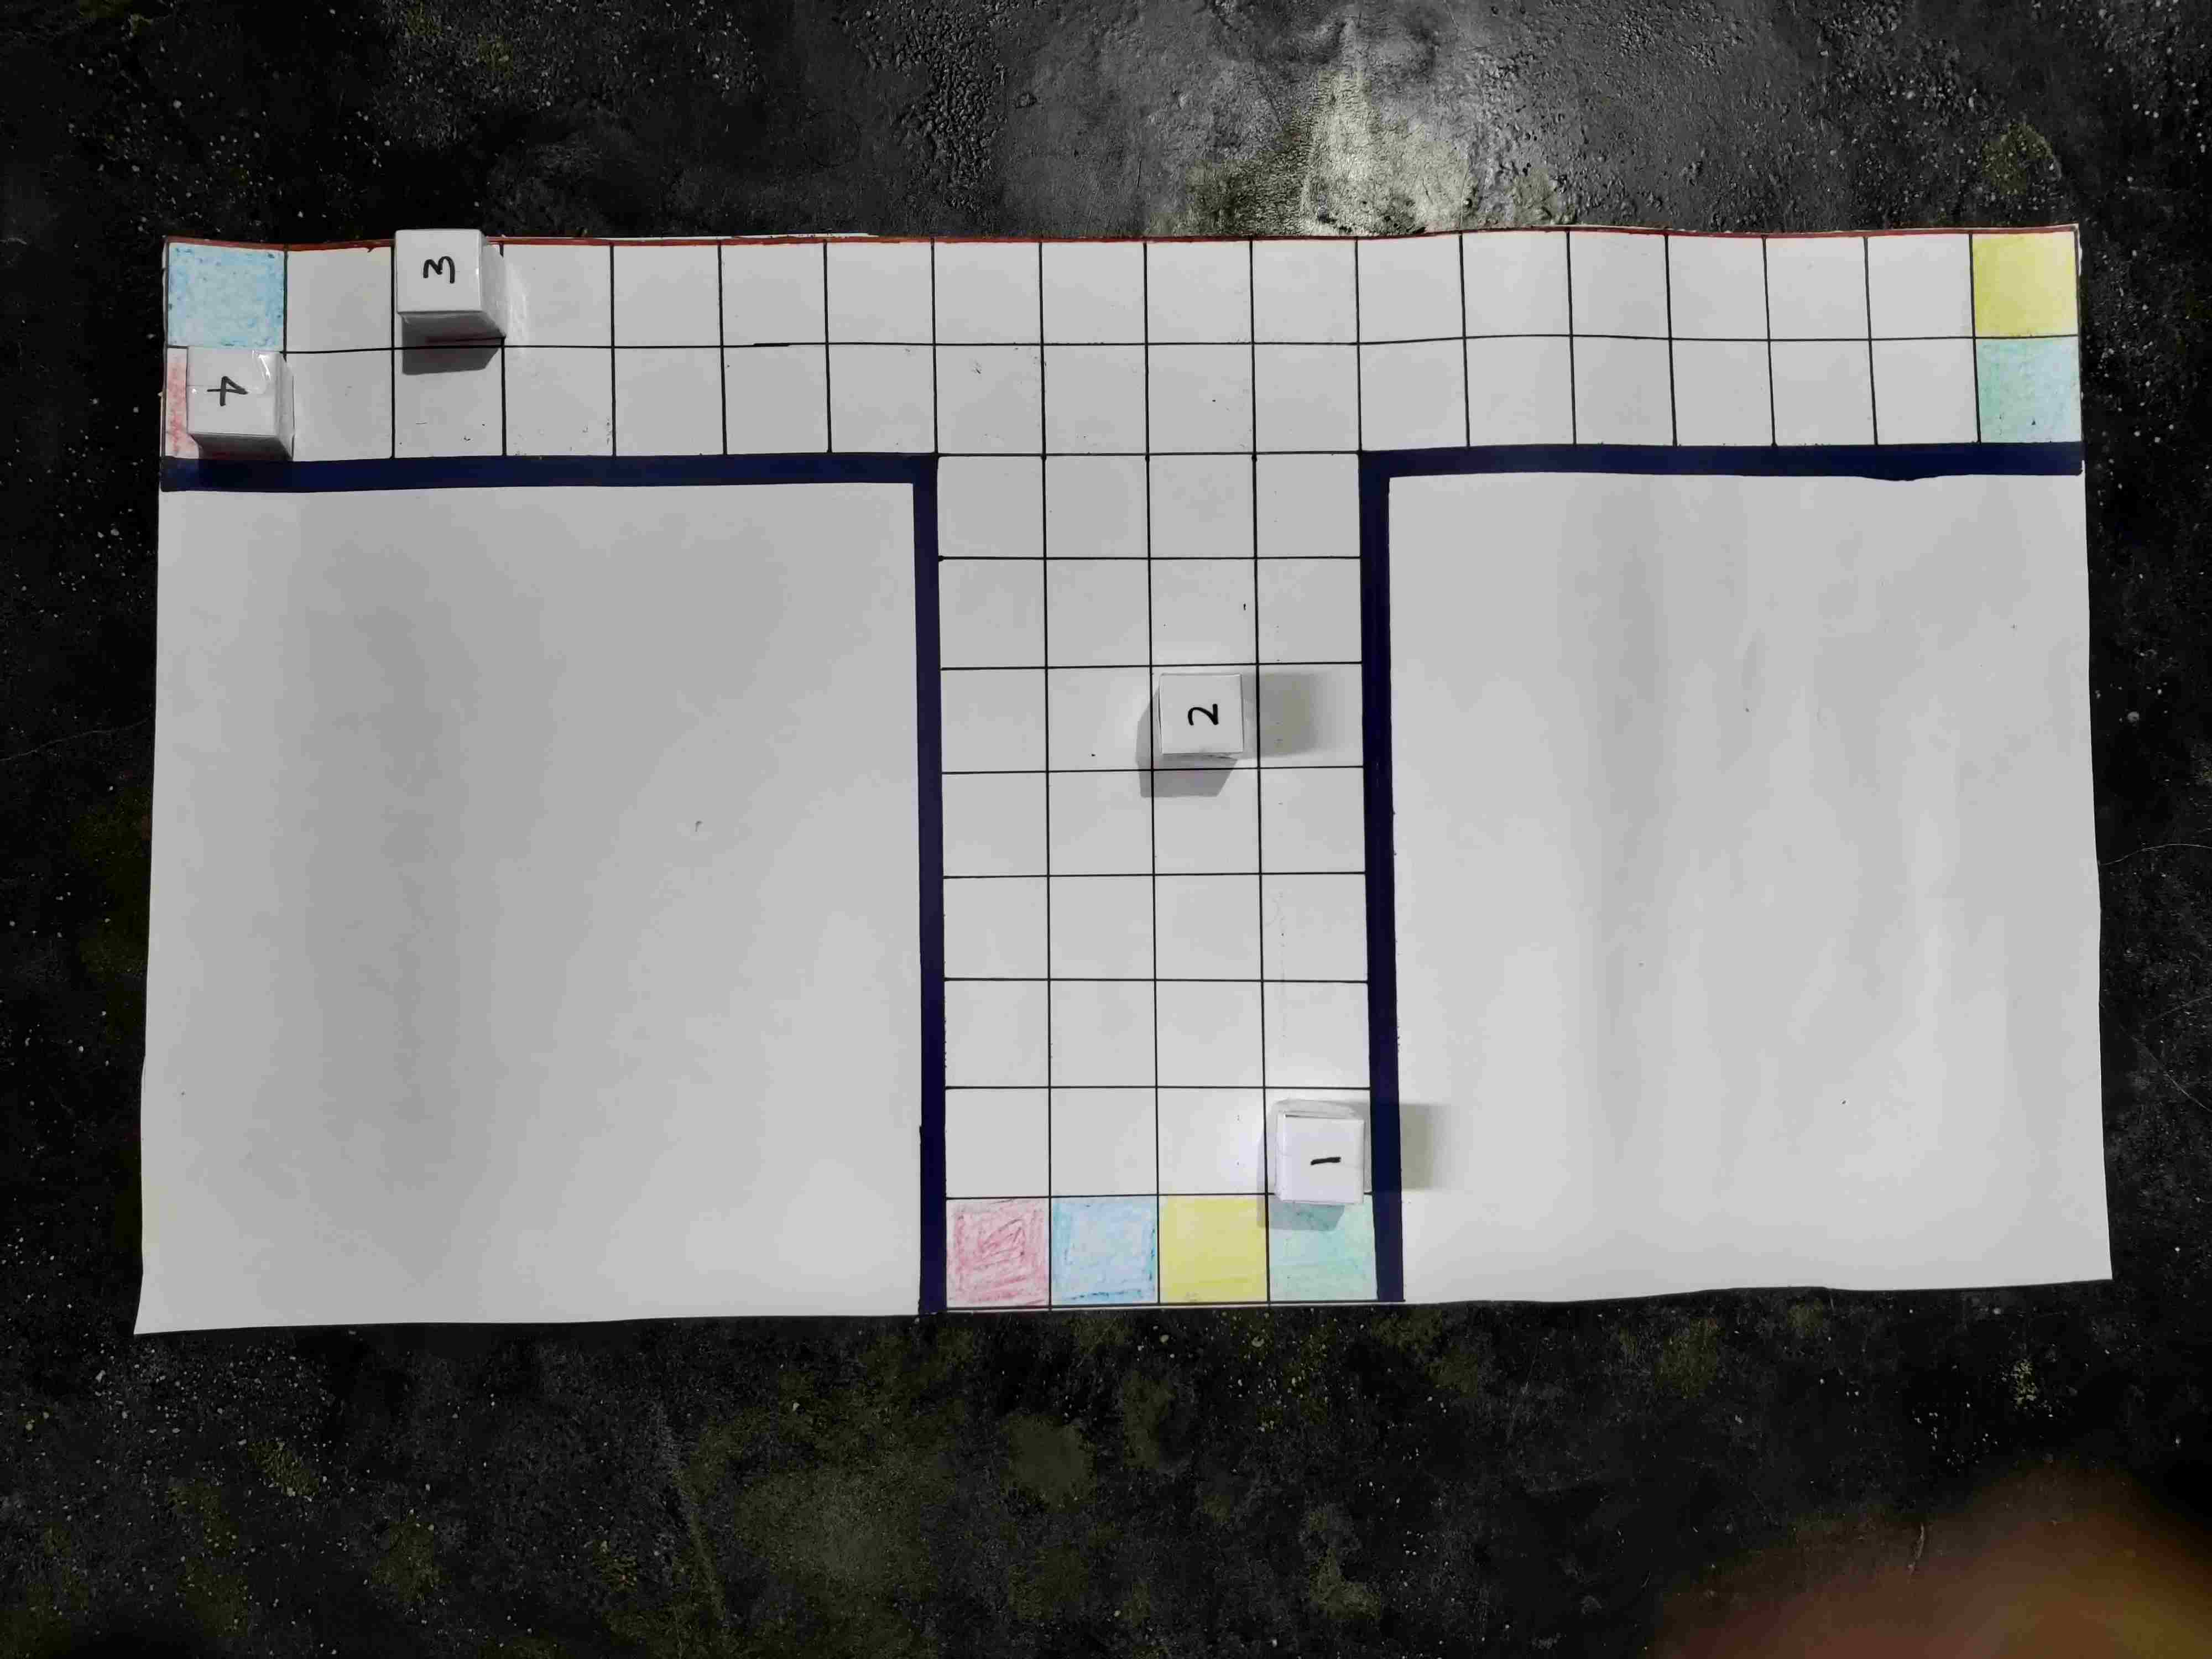arena: (145, 251, 2114, 1321)
bot: (1923, 1112, 2017, 1197), (233, 1121, 322, 1208), (1024, 1126, 1109, 1202), (1123, 369, 1204, 443)
